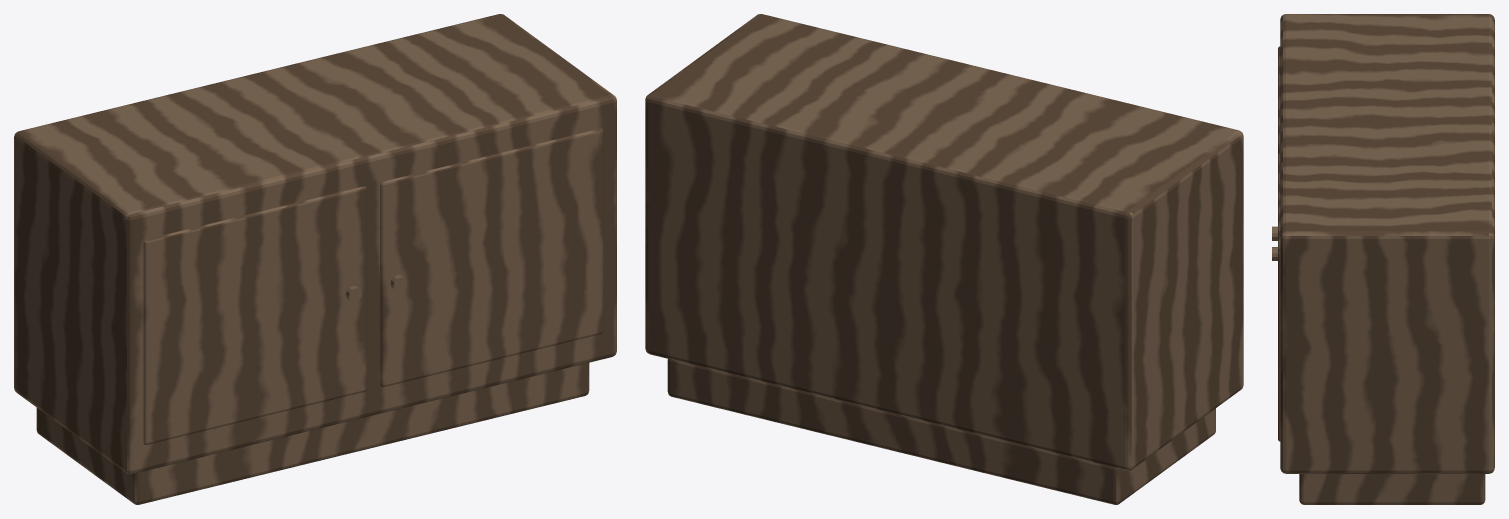
File: FUR_TVCabinet.fbx
3 renders of one model, left to right at view 1: azimuth 30°, elevation 25°; view 2: azimuth 150°, elevation 25°; view 3: azimuth 270°, elevation 25°, orthographic. The views are drawn at different scales.
Parts seen in each view (by area): view 1: TVCabinet_Body; view 2: TVCabinet_Body; view 3: TVCabinet_Body.
Boxes of the visible parts, box(x1,y1,x2,y2) form: TVCabinet_Body: box(14, 14, 616, 504); TVCabinet_Body: box(645, 14, 1243, 504); TVCabinet_Body: box(1272, 14, 1494, 504).
Size of the model in its own units: 110 by 65 by 46.7.
